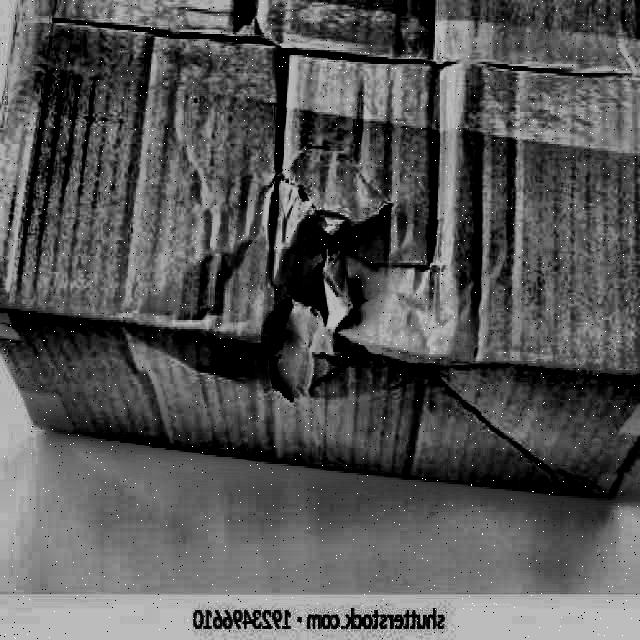box: (1, 0, 640, 500)
hole: (240, 189, 379, 406)
